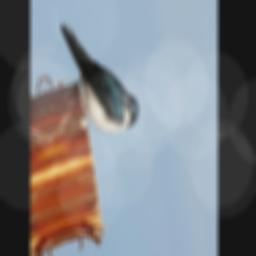Swallow: (58, 0, 141, 149)
